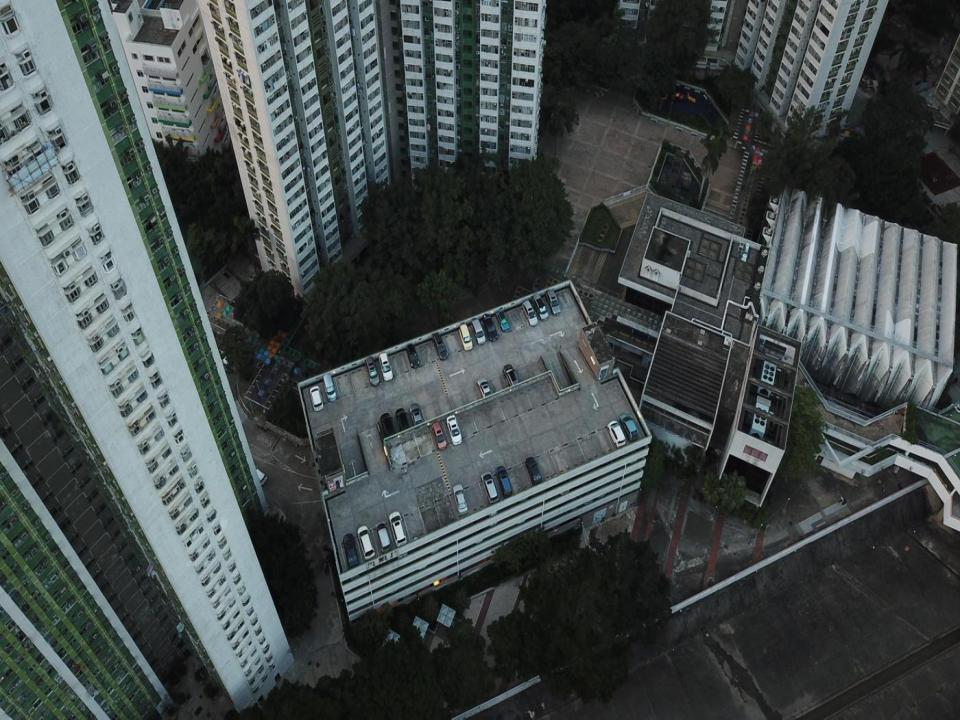car: (389, 511, 407, 547), (480, 470, 499, 504), (357, 525, 375, 559), (342, 533, 359, 567), (495, 466, 512, 498), (380, 412, 396, 446), (503, 364, 520, 396), (452, 483, 468, 516), (375, 521, 391, 554), (245, 464, 267, 488), (532, 292, 549, 322), (525, 456, 542, 486), (620, 413, 638, 441), (608, 420, 626, 448), (446, 415, 462, 446), (408, 404, 424, 434), (393, 527, 408, 559), (431, 421, 447, 450), (478, 376, 494, 405), (424, 514, 440, 543), (396, 408, 410, 441), (431, 333, 448, 360), (365, 356, 380, 386), (546, 287, 561, 317), (378, 353, 393, 381), (483, 314, 498, 342), (522, 300, 538, 326), (323, 373, 337, 402), (310, 386, 324, 412), (472, 319, 486, 345), (459, 323, 472, 350), (406, 344, 419, 368), (496, 310, 509, 332), (386, 576, 398, 596), (557, 475, 569, 495), (486, 495, 497, 516), (582, 484, 592, 505), (429, 537, 440, 555), (348, 563, 359, 581), (474, 527, 484, 546), (488, 509, 497, 527), (596, 482, 604, 502), (568, 494, 576, 513)
